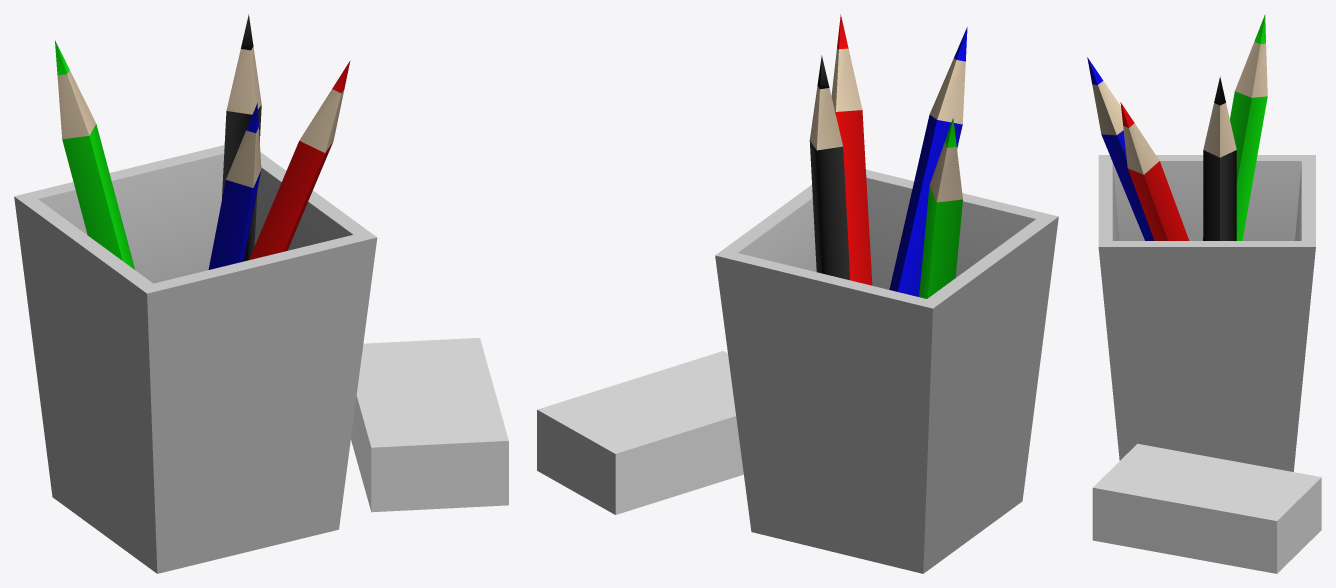
Rendered from Stationery.fbx.
3 views of the same model, side by side, from view 1: azimuth 30°, elevation 25°; view 2: azimuth 150°, elevation 25°; view 3: azimuth 270°, elevation 25° (orthographic). The views are drawn at different scales.
Parts seen in each view (by area): view 1: Penholder, Eraser, Pencil Green, Pencil Red, Pencil Blue, Pencil Black; view 2: Penholder, Eraser, Pencil Black, Pencil Blue, Pencil Red, Pencil Green; view 3: Penholder, Eraser, Pencil Green, Pencil Black, Pencil Red, Pencil Blue.
Boxes of the visible parts, x1,y1,x2,y2 form: Penholder: (14,145,377,573); Eraser: (351,338,508,512); Pencil Green: (55,40,134,269); Pencil Red: (249,60,350,259); Pencil Blue: (208,103,261,269); Pencil Black: (222,14,261,261); Penholder: (715,169,1058,573); Eraser: (537,351,743,514); Pencil Black: (809,55,850,280); Pencil Blue: (889,27,967,296); Pencil Red: (831,14,872,285); Pencil Green: (919,118,962,298); Penholder: (1098,155,1315,471); Eraser: (1092,443,1321,573); Pencil Green: (1230,14,1267,240); Pencil Black: (1203,76,1236,240); Pencil Red: (1120,102,1189,240); Pencil Blue: (1087,57,1154,240).
Size of the model in its own units: 18.72 by 19.38 by 10.52.
